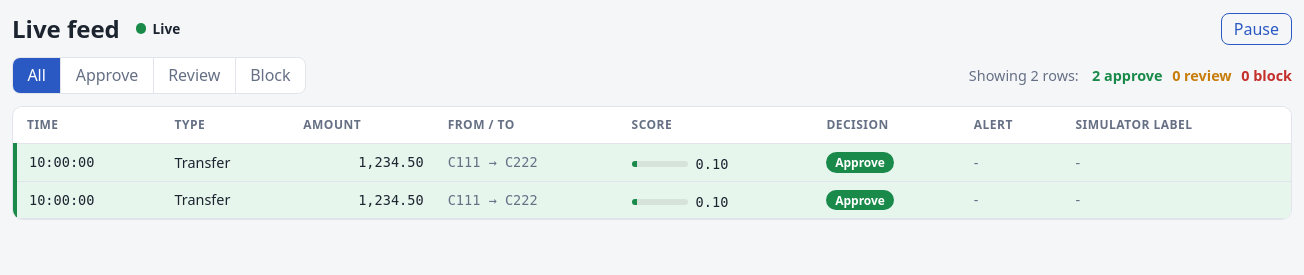
Scenario: live feed › pauses and resumes without losing its place
Step 1. Click the button "Pause" → (1256, 28), box top-left (1221, 12), bottom-right (1292, 44)
Wait 5000 ms
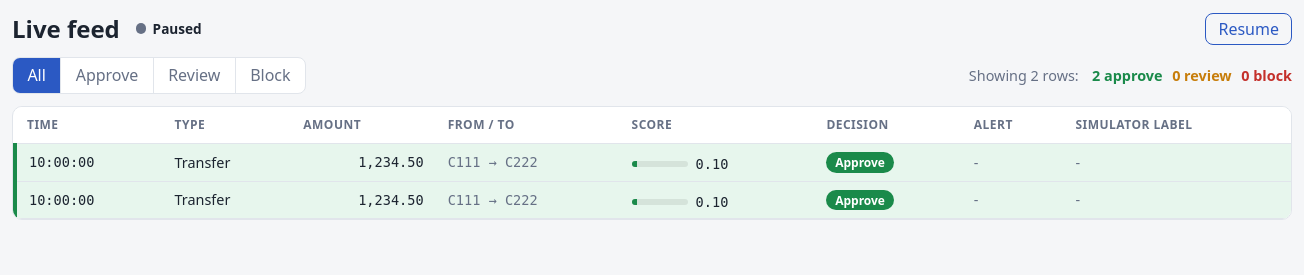
Expected: the message reads "Paused", top-left (153, 19), bottom-right (202, 38)
Step 2. Click the button "Resume" → (1249, 28), box top-left (1206, 12), bottom-right (1292, 44)
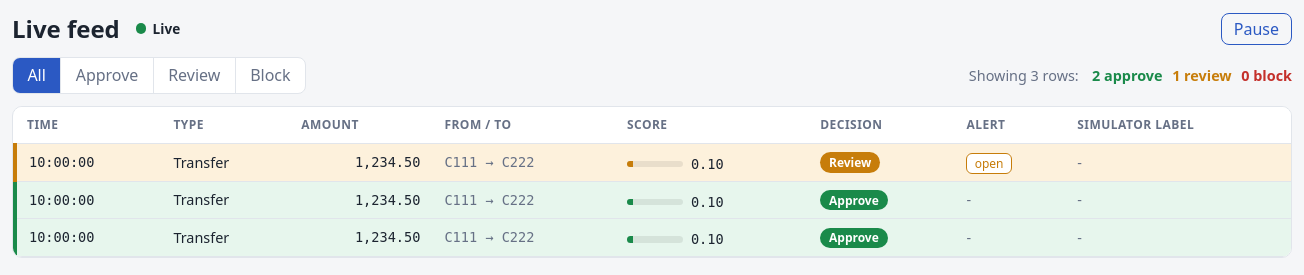
Expected: the message reads "Live", top-left (153, 19), bottom-right (180, 38)
